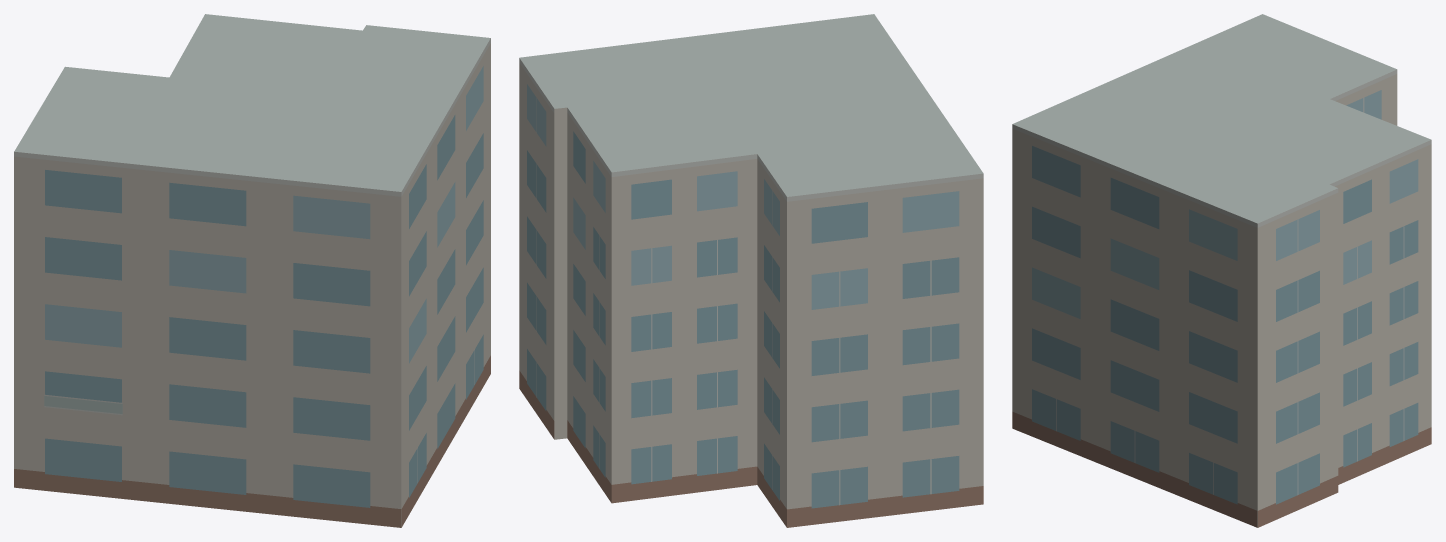
File: survey-upis-32994872.glb
3 renders of one model, left to right at view 1: azimuth 30°, elevation 25°; view 2: azimuth 150°, elevation 25°; view 3: azimuth 270°, elevation 25°, orthographic. The views are drawn at different scales.
Visible parts, largest first — view 1: survey-upis-32994872.tmp; view 2: survey-upis-32994872.tmp; view 3: survey-upis-32994872.tmp.
Boxes of the visible parts, x1=… form: survey-upis-32994872.tmp: x1=14, y1=14, x2=490, y2=527; survey-upis-32994872.tmp: x1=519, y1=14, x2=983, y2=527; survey-upis-32994872.tmp: x1=1012, y1=14, x2=1431, y2=527.
Size of the model in its own units: 25.26 by 17.1 by 21.37.
